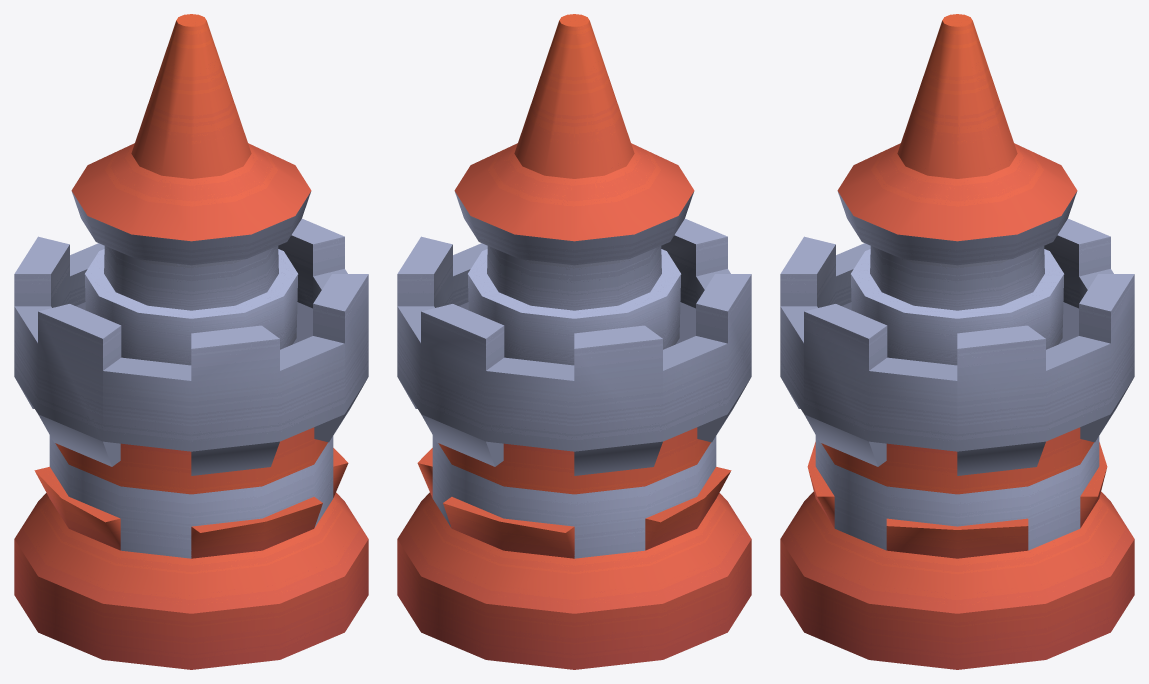
Rendered from tower-round-build-f.glb.
3 views of the same model, side by side, from view 1: azimuth 30°, elevation 25°; view 2: azimuth 150°, elevation 25°; view 3: azimuth 270°, elevation 25° (orthographic).
Parts seen in each view (by area): view 1: tower-round-build-f; view 2: tower-round-build-f; view 3: tower-round-build-f.
Boxes of the visible parts, bbox=[...] form: tower-round-build-f: bbox=[14, 14, 368, 669]; tower-round-build-f: bbox=[397, 14, 751, 669]; tower-round-build-f: bbox=[780, 14, 1134, 669].
Bounding box in the file's own units: 3 × 5.37 × 3.
Materials: 1 (1 with a texture image).
